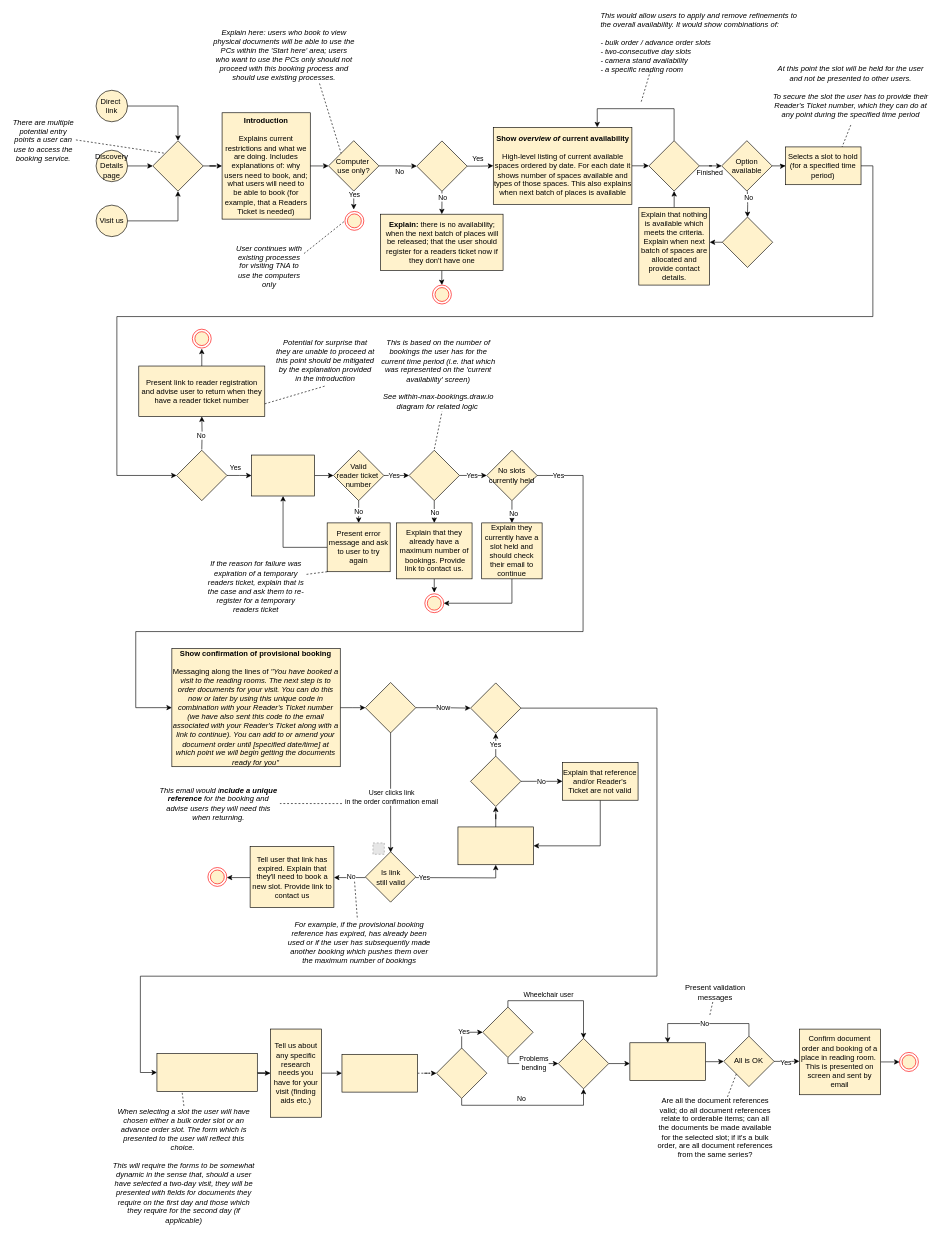
Image size: 940x1237. Some labels were removed from this diagram. Grey dashed boxes stand in for pictures. Each missing label, with the box of its shape:
Ask user for reference and their Reader's Ticket number: (457, 826, 534, 865)
Complete and submit form: (629, 1042, 705, 1081)
Continue: (365, 682, 416, 733)
Do you have accessibility needs for your visit?: (341, 1054, 418, 1092)
Enter reader ticket number to hold slot: (251, 454, 315, 496)
Has a reader ticket?: (176, 450, 227, 501)
Is there availability?: (416, 140, 467, 191)
Present form that corresponds to the booking the user has made.: (156, 1053, 257, 1091)
Refine view: (648, 140, 699, 191)
Supplied information is valid: (470, 755, 521, 807)
Within max bookings: (408, 450, 459, 501)
